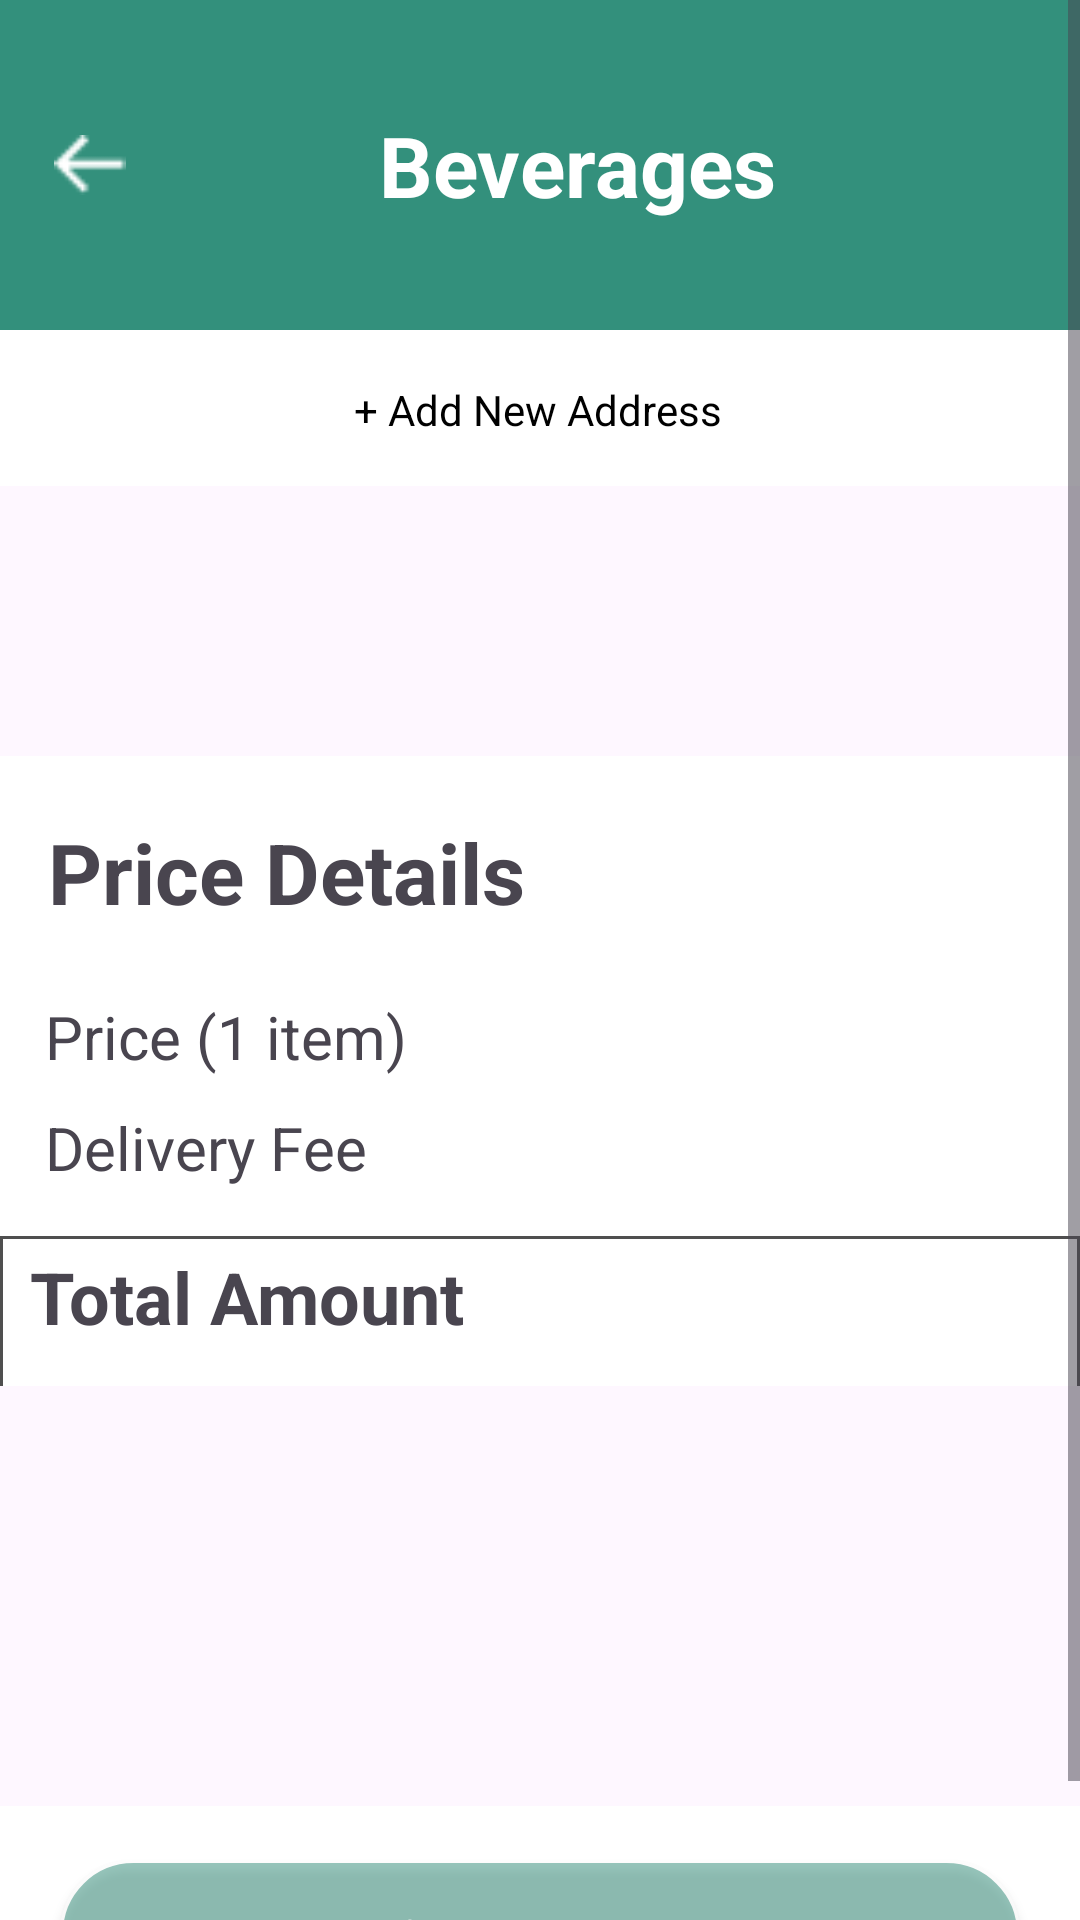

Icon click points for this 1080px x 1920px phone screenshot, format (x=x, y=y):
back: (x=90, y=164)
